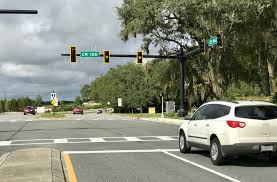signal: (70, 46, 76, 62), (104, 50, 109, 63), (137, 51, 142, 64)
